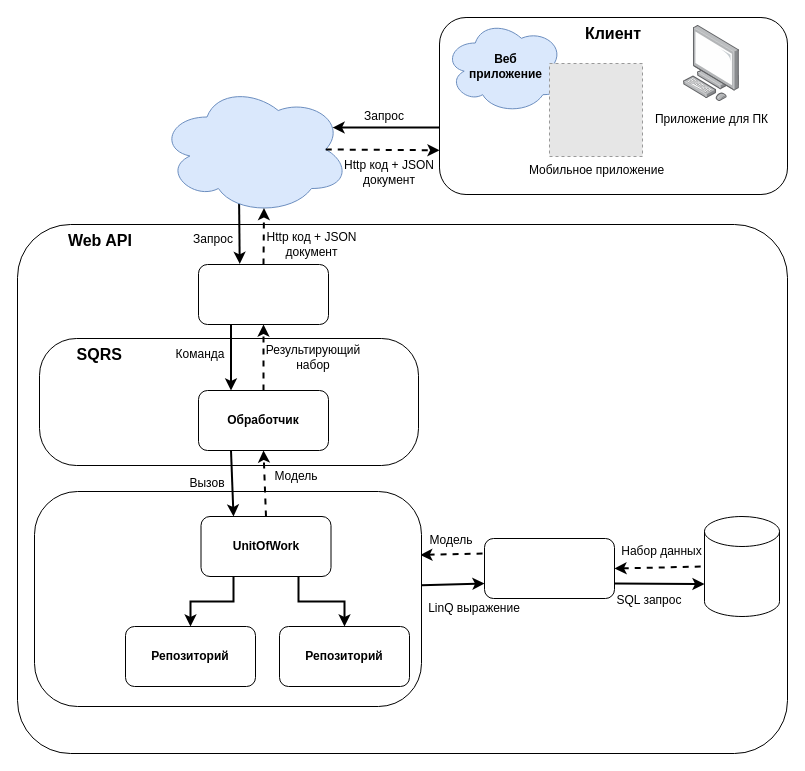
Image size: 805x771. Some labels were removed from this diagram. Grey dashed boxes stand in for pictures. Each missing label, with the box of its shape:
Entity Framework контекст базы данных: (484, 538, 614, 598)
IIS (Веб сервер): (158, 84, 350, 214)
Repository pattern: (34, 490, 422, 706)
SQL Server: (704, 516, 780, 616)
Контроллеры: (198, 264, 328, 324)
